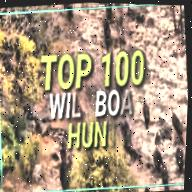boar: (166, 106, 188, 148), (139, 90, 158, 132), (99, 16, 118, 54), (167, 146, 186, 172), (61, 3, 77, 23), (161, 165, 174, 188), (152, 150, 165, 171), (100, 3, 114, 19)
